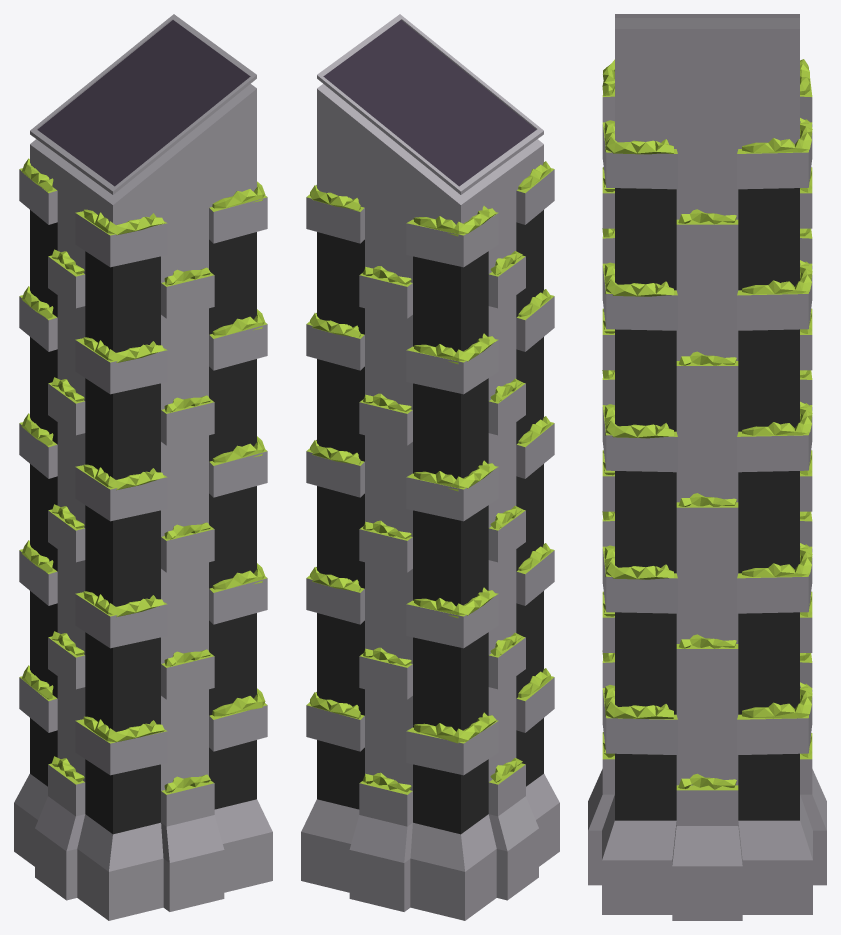
The model's file is Building3.fbx.
3 renders of one model, left to right at view 1: azimuth 30°, elevation 25°; view 2: azimuth 150°, elevation 25°; view 3: azimuth 270°, elevation 25°, orthographic. The views are drawn at different scales.
Parts seen in each view (by area): view 1: building_3; view 2: building_3; view 3: building_3.
Part boxes in pixels (x1,y1,x2,y2): building_3: (14,14,272,920); building_3: (301,14,559,920); building_3: (588,14,826,920).
Bounding box in the file's own units: 2576 × 10666 × 2576.
